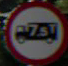Heavy Vehicles: (4, 4, 62, 57)
